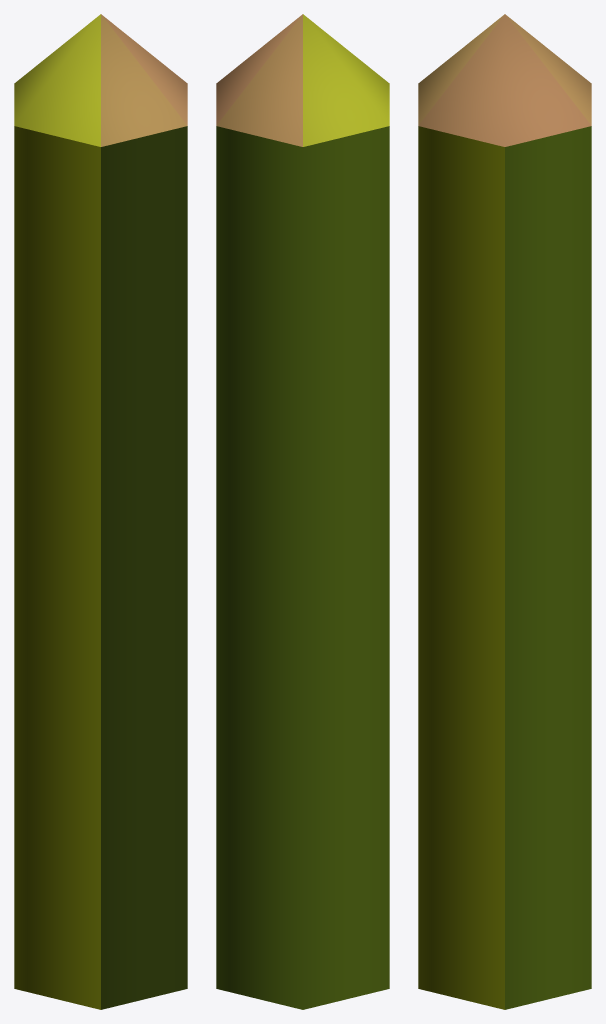
File: Solo.RocketMesh.AcidRain.glb
3 renders of one model, left to right at view 1: azimuth 30°, elevation 25°; view 2: azimuth 150°, elevation 25°; view 3: azimuth 270°, elevation 25°, orthographic.
Visible parts, largest first — view 1: Solo.RocketMesh.AcidRain; view 2: Solo.RocketMesh.AcidRain; view 3: Solo.RocketMesh.AcidRain.
Part boxes in pixels (left/top/right/bottom): Solo.RocketMesh.AcidRain: left=14, top=14, right=187, bottom=1009; Solo.RocketMesh.AcidRain: left=216, top=14, right=389, bottom=1009; Solo.RocketMesh.AcidRain: left=418, top=14, right=591, bottom=1009.
Size of the model in its own units: 0.2 by 1.05 by 0.1732.
Materials: 1 (1 with a texture image).
